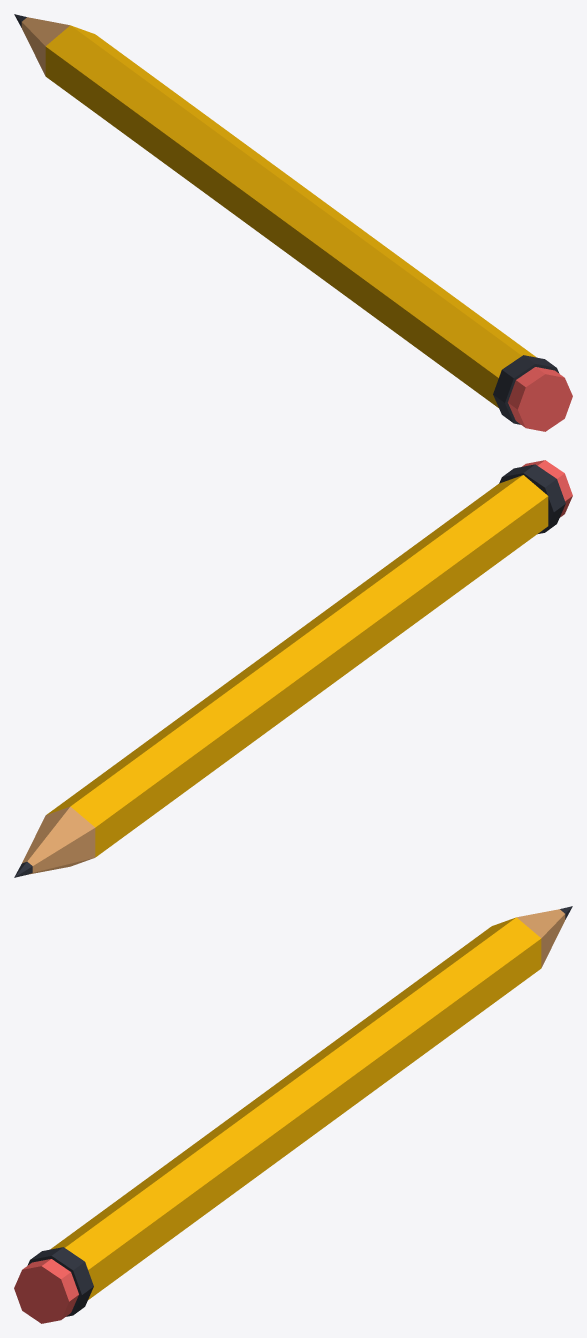
The model's file is prop_pencil.glb.
3 views of the same model, one above another, from view 1: azimuth 30°, elevation 25°; view 2: azimuth 150°, elevation 25°; view 3: azimuth 330°, elevation 25° (orthographic).
Visible parts, largest first — view 1: PropPencil; view 2: PropPencil; view 3: PropPencil.
Part boxes in pixels (box(x1,y1,x2,y2)): PropPencil: box(14, 14, 572, 431); PropPencil: box(14, 460, 572, 877); PropPencil: box(14, 906, 572, 1323).
Bounding box in the file's own units: 0.53 × 0.53 × 8.
